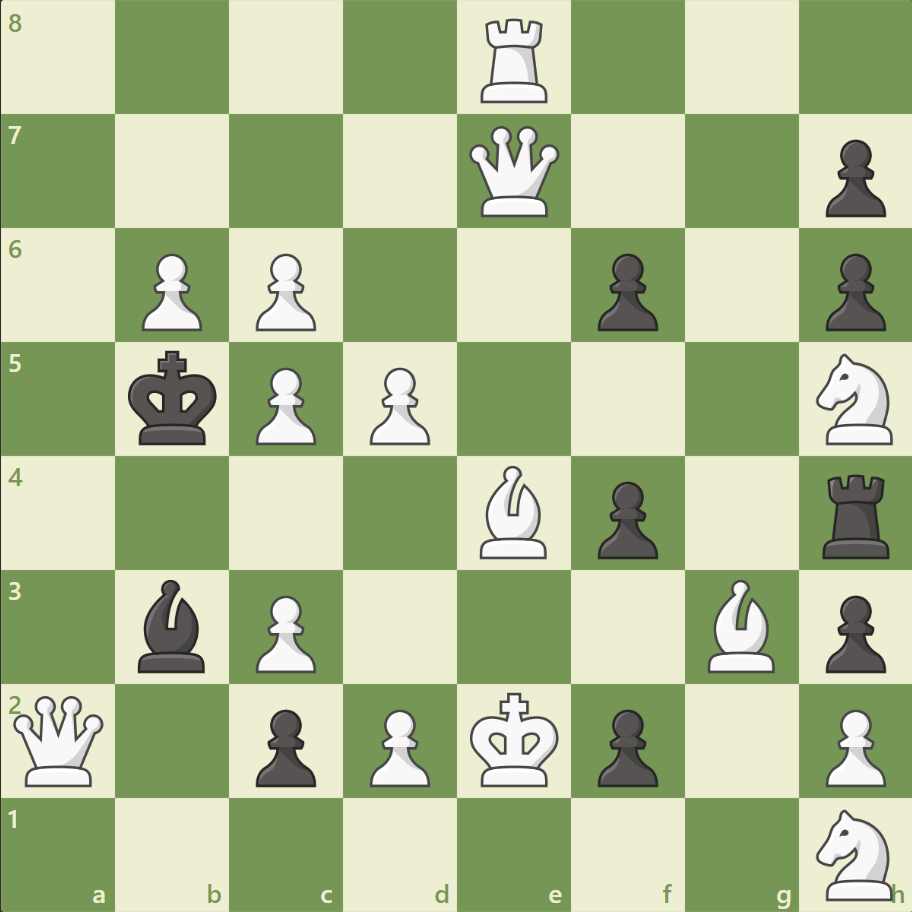B: (471, 460, 555, 563), (698, 574, 782, 676)
K: (465, 685, 565, 793)
N: (806, 348, 903, 450), (806, 802, 903, 904)
P: (133, 246, 208, 337), (247, 246, 322, 337), (247, 359, 322, 450), (247, 586, 322, 677), (361, 359, 435, 450), (361, 700, 435, 791), (815, 700, 889, 791)
Q: (464, 122, 563, 222), (10, 690, 109, 789)
R: (473, 12, 556, 109)
b: (131, 574, 215, 676)
k: (124, 344, 224, 452)
p: (247, 700, 322, 791), (815, 132, 889, 223), (588, 246, 662, 337), (815, 246, 889, 337), (588, 473, 662, 564), (815, 586, 889, 677), (588, 700, 662, 791)
r: (814, 466, 897, 563)
